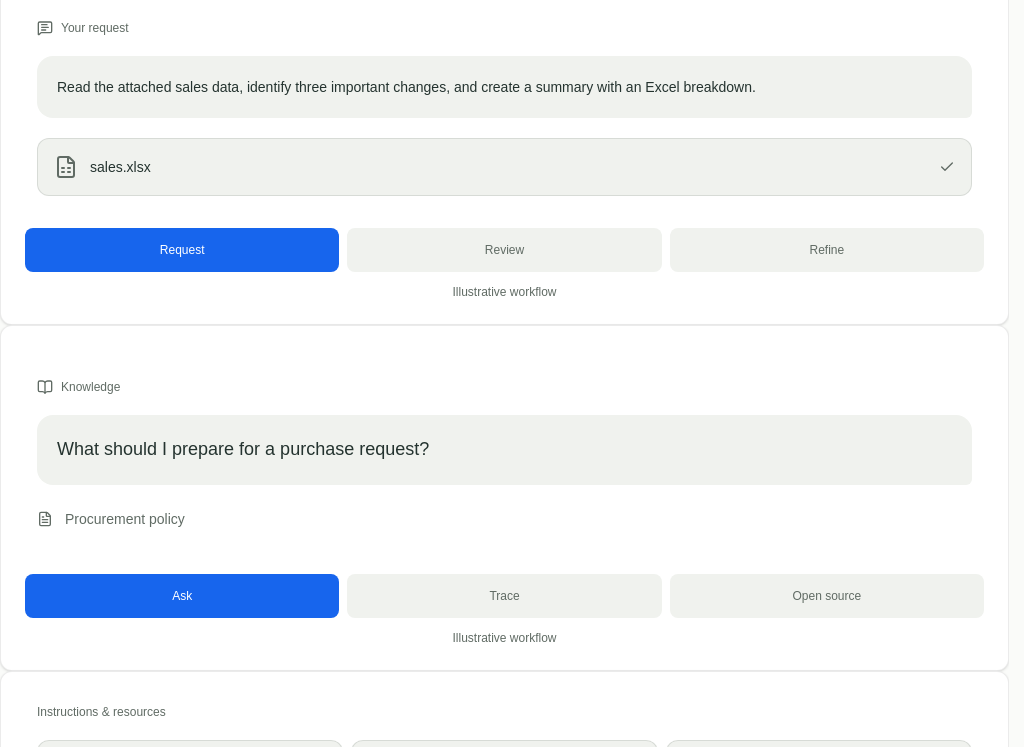
keeps workflow steps independent and shows the latest step after rapid selection
Click the button "Refine".
click(827, 250)  # box [670,228,984,272]
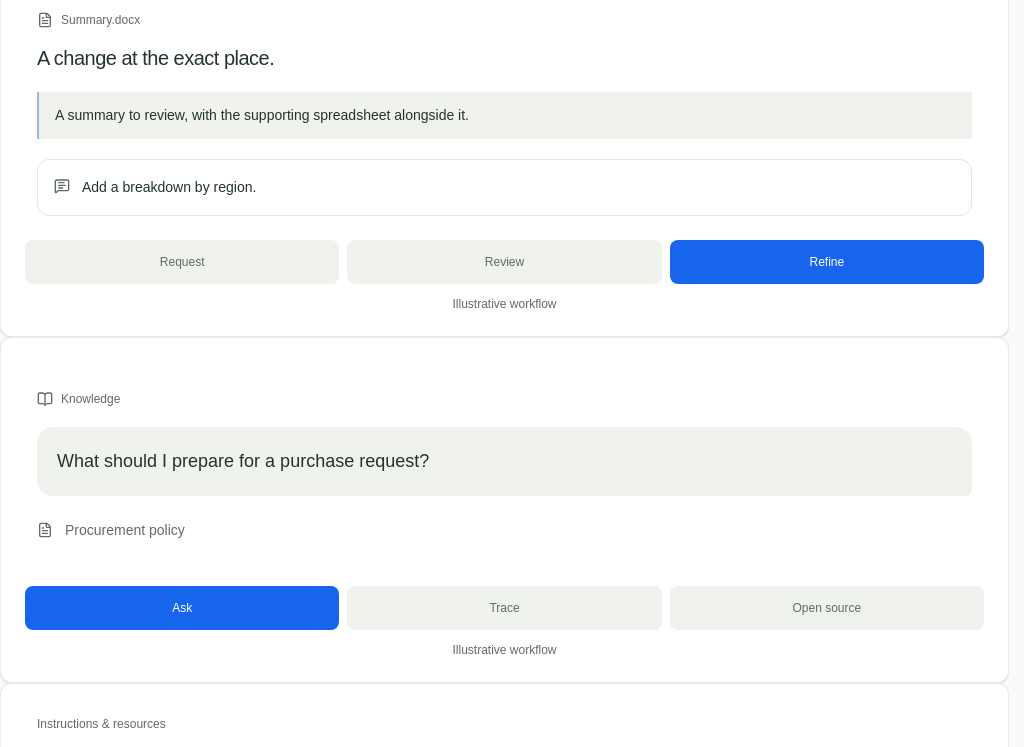
Expected: the text "Add a breakdown by region." is shown, [37,159,972,216]
Click the button "Request".
click(182, 262)  # box [25,240,339,284]
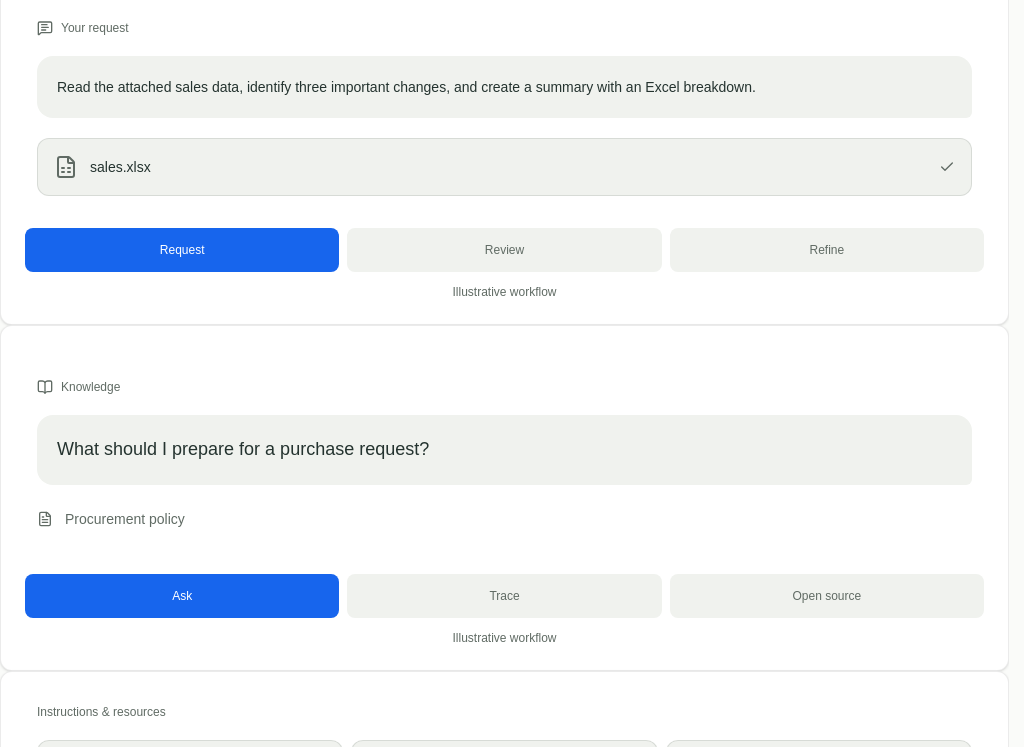
Click the button "Review".
click(504, 250)  # box [347,228,662,272]
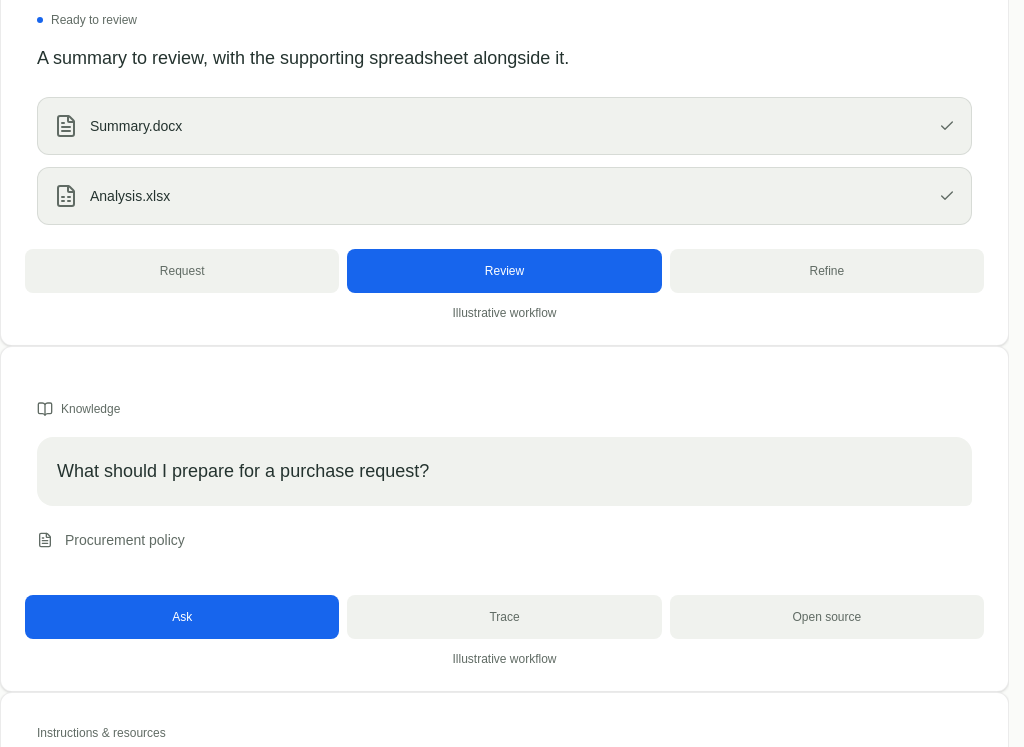
Expected: the text "What should I prepare for a purchase request?" is shown, [37,437,972,506]
Expected: the text "Analysis.xlsx" is shown, [90,186,170,206]
Click the button "Open source".
click(827, 617)  # box [670,595,984,639]
(page scrolled)
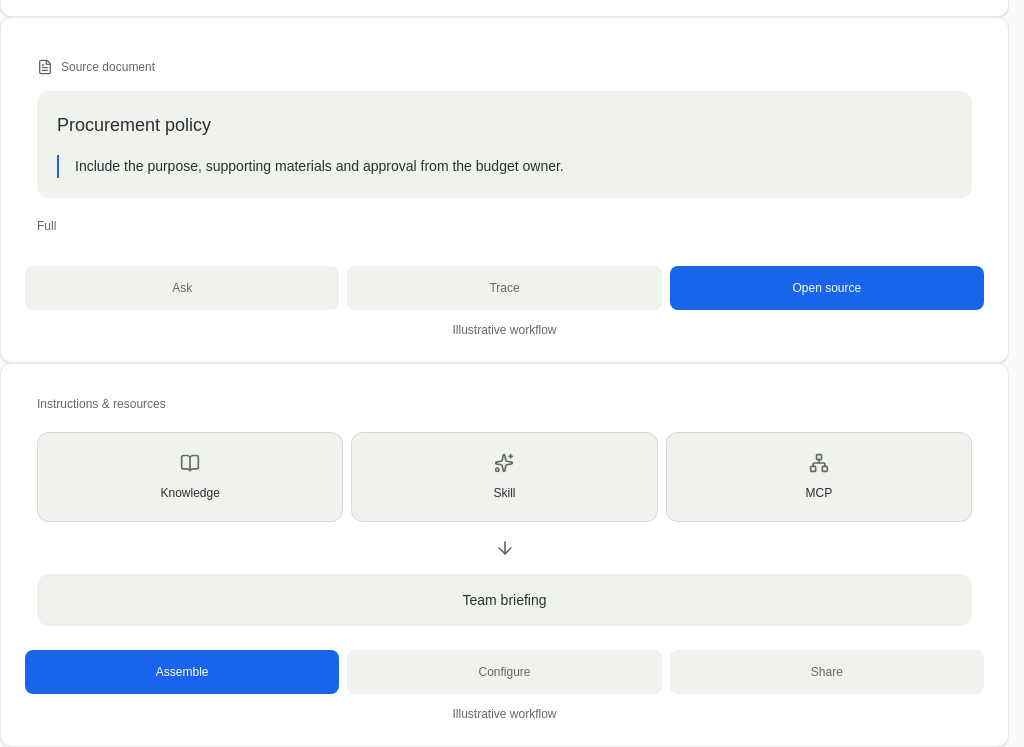
Expected: the text "Include the purpose, supporting materials and approval from the budget owner." is shown, [57,155,952,178]
Click the button "Share".
click(827, 672)  # box [670,650,984,694]
(page scrolled)
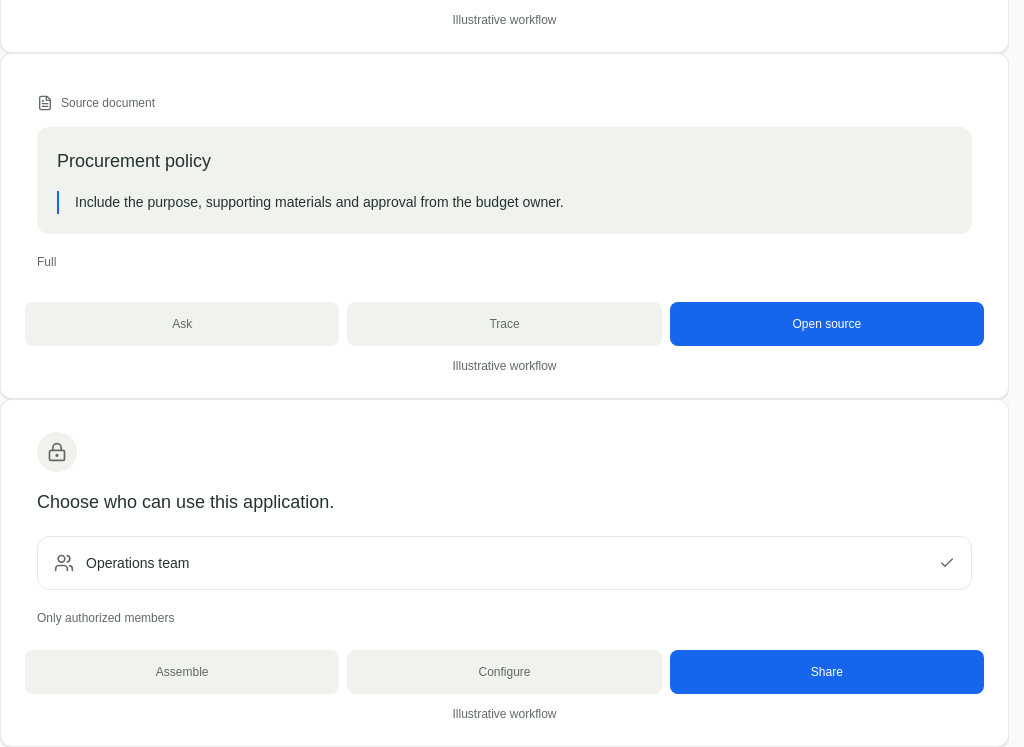
Expected: the text "Illustrative workflow" is shown 3 times, [452,13,556,27]; [452,359,556,373]; [452,707,556,721]
Expected: the text "Only authorized members" is shown, [37,611,174,625]
